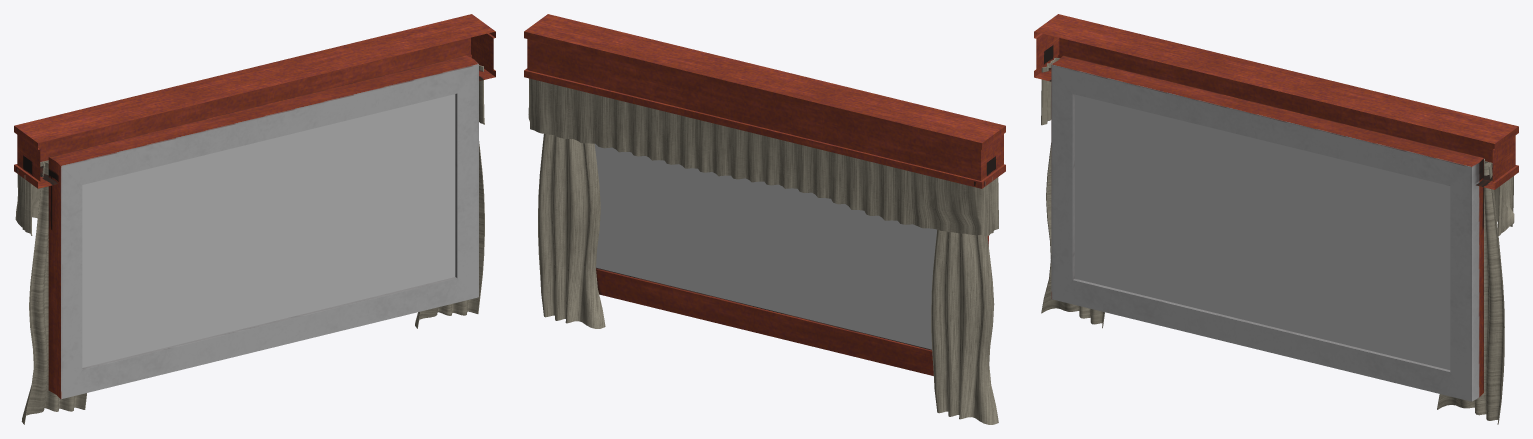
File: SM_Bath_Bed_Window.fbx
The picture shows the model from 3 angles, left to right: view 1: azimuth 30°, elevation 25°; view 2: azimuth 150°, elevation 25°; view 3: azimuth 330°, elevation 25°; orthographic projection.
Parts seen in each view (by area): view 1: SM_Bath_Bed_Window; view 2: SM_Bath_Bed_Window; view 3: SM_Bath_Bed_Window.
Part boxes in pixels (x1,y1,x2,y2): SM_Bath_Bed_Window: (14, 14, 495, 424); SM_Bath_Bed_Window: (524, 14, 1005, 424); SM_Bath_Bed_Window: (1034, 14, 1518, 424).
Size of the model in its own units: 167 by 16.74 by 99.27.
2 materials, 1 textured.
